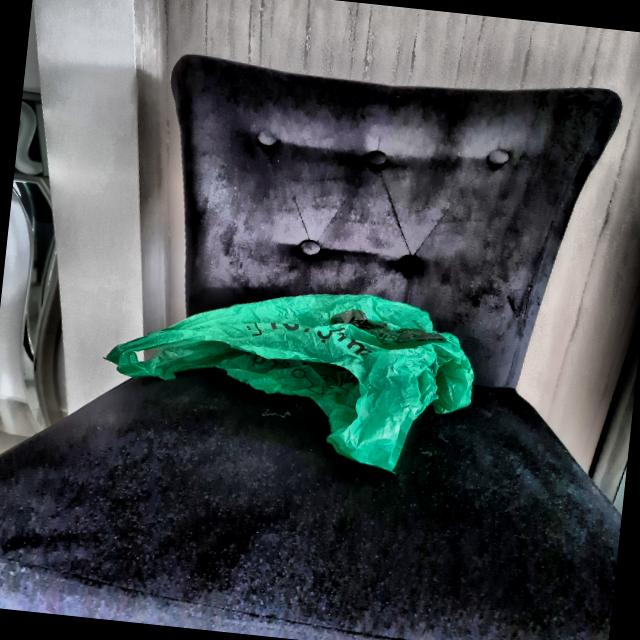plastic bag: (100, 265, 483, 469)
